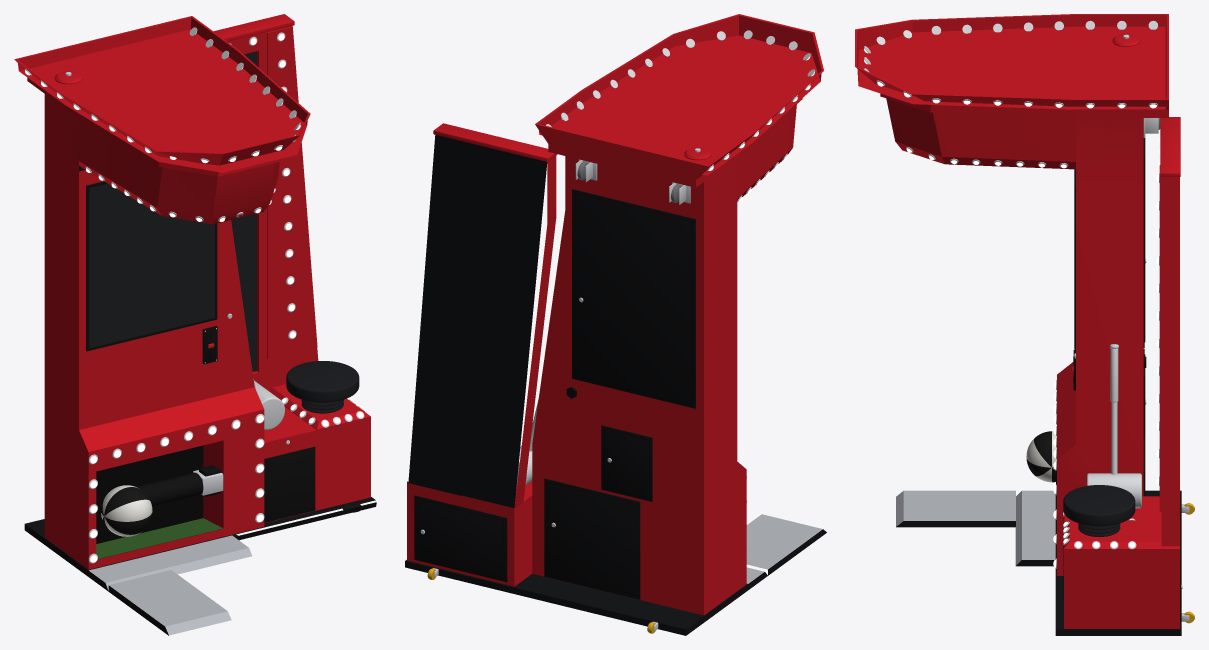
Rendered from ultimate-monster.glb.
3 renders of one model, left to right at view 1: azimuth 30°, elevation 25°; view 2: azimuth 150°, elevation 25°; view 3: azimuth 270°, elevation 25°, orthographic. The views are drawn at different scales.
Visible parts, largest first — view 1: B01_body, B02_canopy_lid, F01_screen, B02_canopy_box, T03_lamp_strip, D20_stand_tread_plate, K01_kicker_recess, H02_anvil_box, H01_middle_box, T01_tower, H03_strike_pad, T02_tower_window (+8 smaller); view 2: B01_body, T01_tower, R01_rear_doors, B02_canopy_lid, B04_base_frame, B02_canopy_box, H01_middle_box, D20_stand_tread_plate, B02_canopy_plate, H02_anvil_box, R02_wheels, E01_lamp_bezels; view 3: B02_canopy_lid, B01_body, H02_anvil_box, B02_canopy_box, T01_tower, D20_stand_tread_plate, H03_strike_pad, B04_base_frame, B02_canopy_plate, H04_hammer, E01_lamp_bezels, R01_rear_doors (+5 smaller).
Part boxes in pixels (bbox=[...]): B01_body: bbox=[44, 94, 264, 569]; B02_canopy_lid: bbox=[14, 16, 310, 172]; F01_screen: bbox=[86, 181, 217, 351]; B02_canopy_box: bbox=[44, 94, 279, 224]; T03_lamp_strip: bbox=[267, 26, 317, 358]; D20_stand_tread_plate: bbox=[89, 535, 251, 635]; K01_kicker_recess: bbox=[96, 440, 223, 558]; H02_anvil_box: bbox=[269, 384, 370, 510]; H01_middle_box: bbox=[264, 407, 316, 523]; T01_tower: bbox=[214, 14, 318, 390]; H03_strike_pad: bbox=[286, 361, 359, 413]; T02_tower_window: bbox=[231, 51, 258, 373]; B01_body: bbox=[532, 156, 746, 615]; T01_tower: bbox=[408, 123, 557, 508]; R01_rear_doors: bbox=[414, 189, 695, 599]; B02_canopy_lid: bbox=[535, 14, 823, 179]; B04_base_frame: bbox=[405, 529, 826, 635]; B02_canopy_box: bbox=[565, 104, 796, 222]; H01_middle_box: bbox=[459, 481, 532, 586]; D20_stand_tread_plate: bbox=[746, 514, 822, 583]; B02_canopy_plate: bbox=[548, 98, 802, 187]; H02_anvil_box: bbox=[407, 481, 459, 572]; R02_wheels: bbox=[427, 159, 690, 633]; E01_lamp_bezels: bbox=[546, 30, 815, 575]; B02_canopy_lid: bbox=[855, 14, 1168, 109]; B01_body: bbox=[1057, 118, 1143, 575]; H02_anvil_box: bbox=[1064, 520, 1179, 628]; B02_canopy_box: bbox=[886, 98, 1143, 169]; T01_tower: bbox=[1160, 117, 1180, 546]; D20_stand_tread_plate: bbox=[896, 490, 1055, 565]; H03_strike_pad: bbox=[1063, 485, 1135, 536]; B04_base_frame: bbox=[896, 490, 1181, 635]; B02_canopy_plate: bbox=[880, 93, 1168, 117]; H04_hammer: bbox=[1087, 344, 1141, 508]; E01_lamp_bezels: bbox=[864, 20, 1159, 568]; R01_rear_doors: bbox=[1143, 138, 1182, 621].
Bounding box in the file's own units: 1.46 × 2.24 × 1.42.
